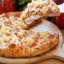pineapple: (40, 4, 50, 14), (37, 31, 47, 40), (16, 30, 27, 36), (24, 39, 32, 47), (1, 28, 8, 35)
pizza: (1, 11, 59, 57)
